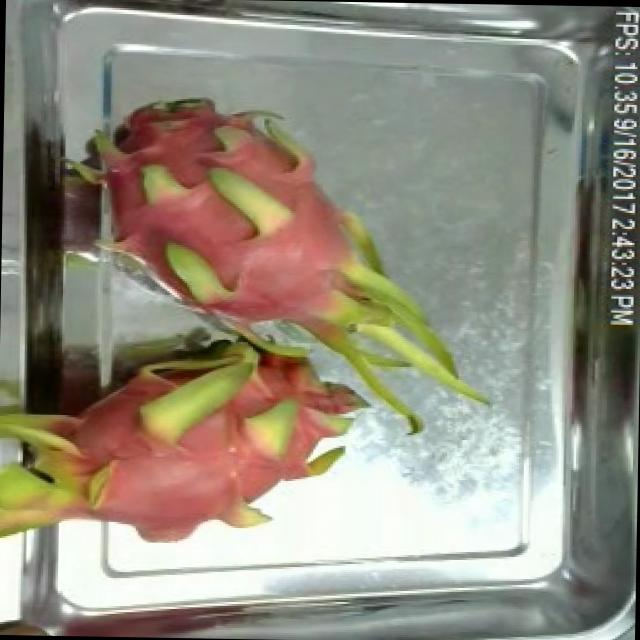Fruit: (0, 612, 71, 635)
